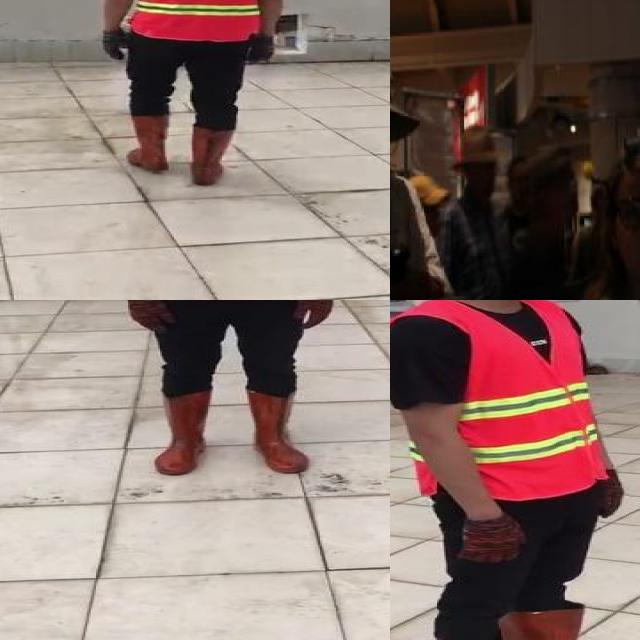boots: (247, 392, 308, 475), (153, 393, 215, 474), (499, 609, 640, 640), (190, 126, 233, 183), (128, 115, 168, 173)
face_nomask: (616, 193, 640, 262)
glasses: (609, 199, 640, 235)
hand_glove: (455, 517, 529, 566), (126, 300, 172, 331), (291, 300, 334, 328), (99, 30, 133, 59), (250, 36, 274, 65)
head_nohelmet: (597, 146, 640, 208)
person: (390, 300, 640, 640), (98, 300, 351, 487), (96, 0, 292, 187), (568, 146, 640, 300)
vest: (390, 300, 607, 501), (134, 0, 273, 41)
